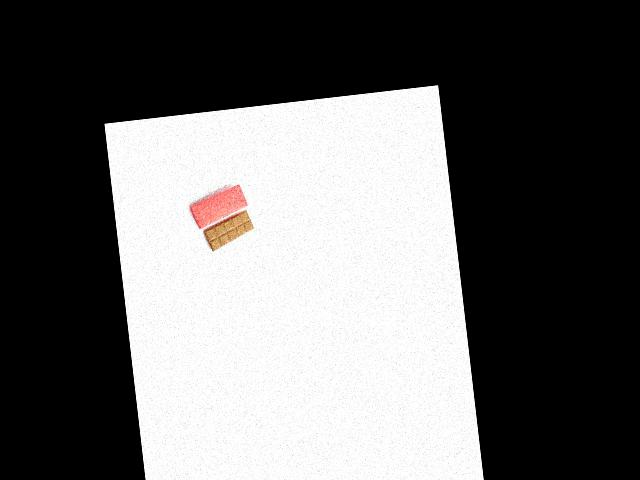chocolate: (198, 206, 257, 252)
